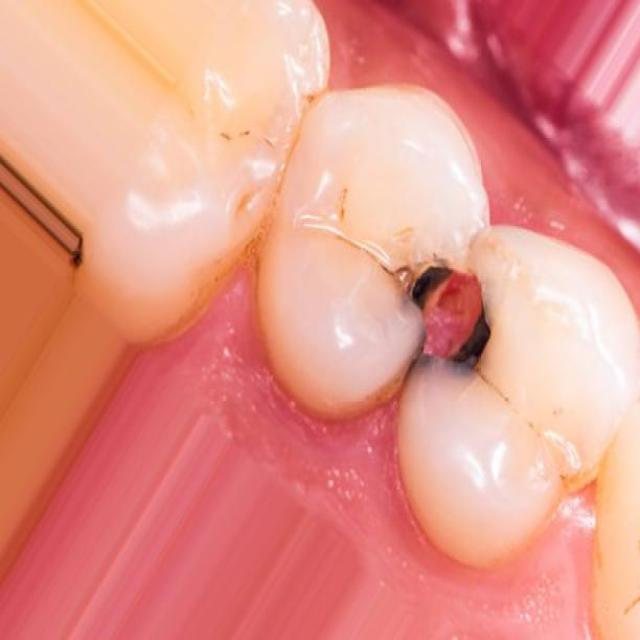caries: (392, 224, 521, 405)
